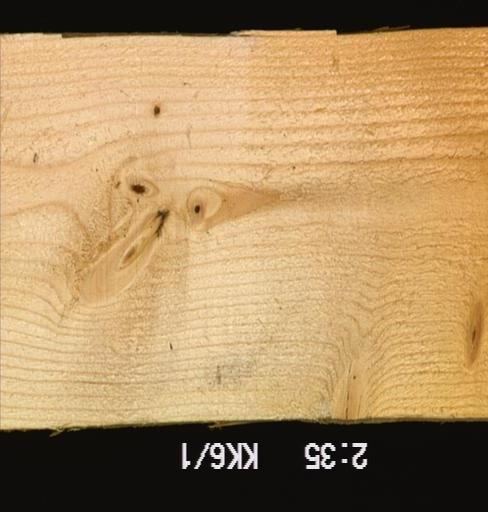small_knot: (183, 196, 209, 223), (145, 104, 166, 120)
